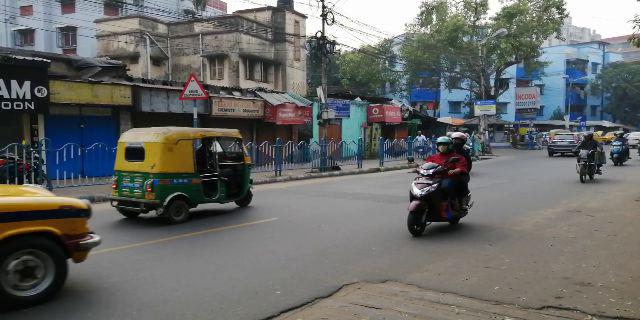Autorickshaw: (113, 130, 257, 214)
Motorbike: (408, 127, 472, 234), (575, 126, 601, 184), (608, 130, 630, 169)
